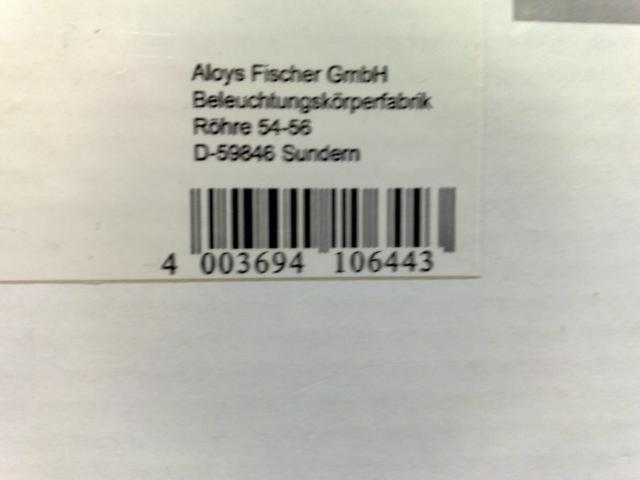Barkod: (184, 184, 456, 251)
